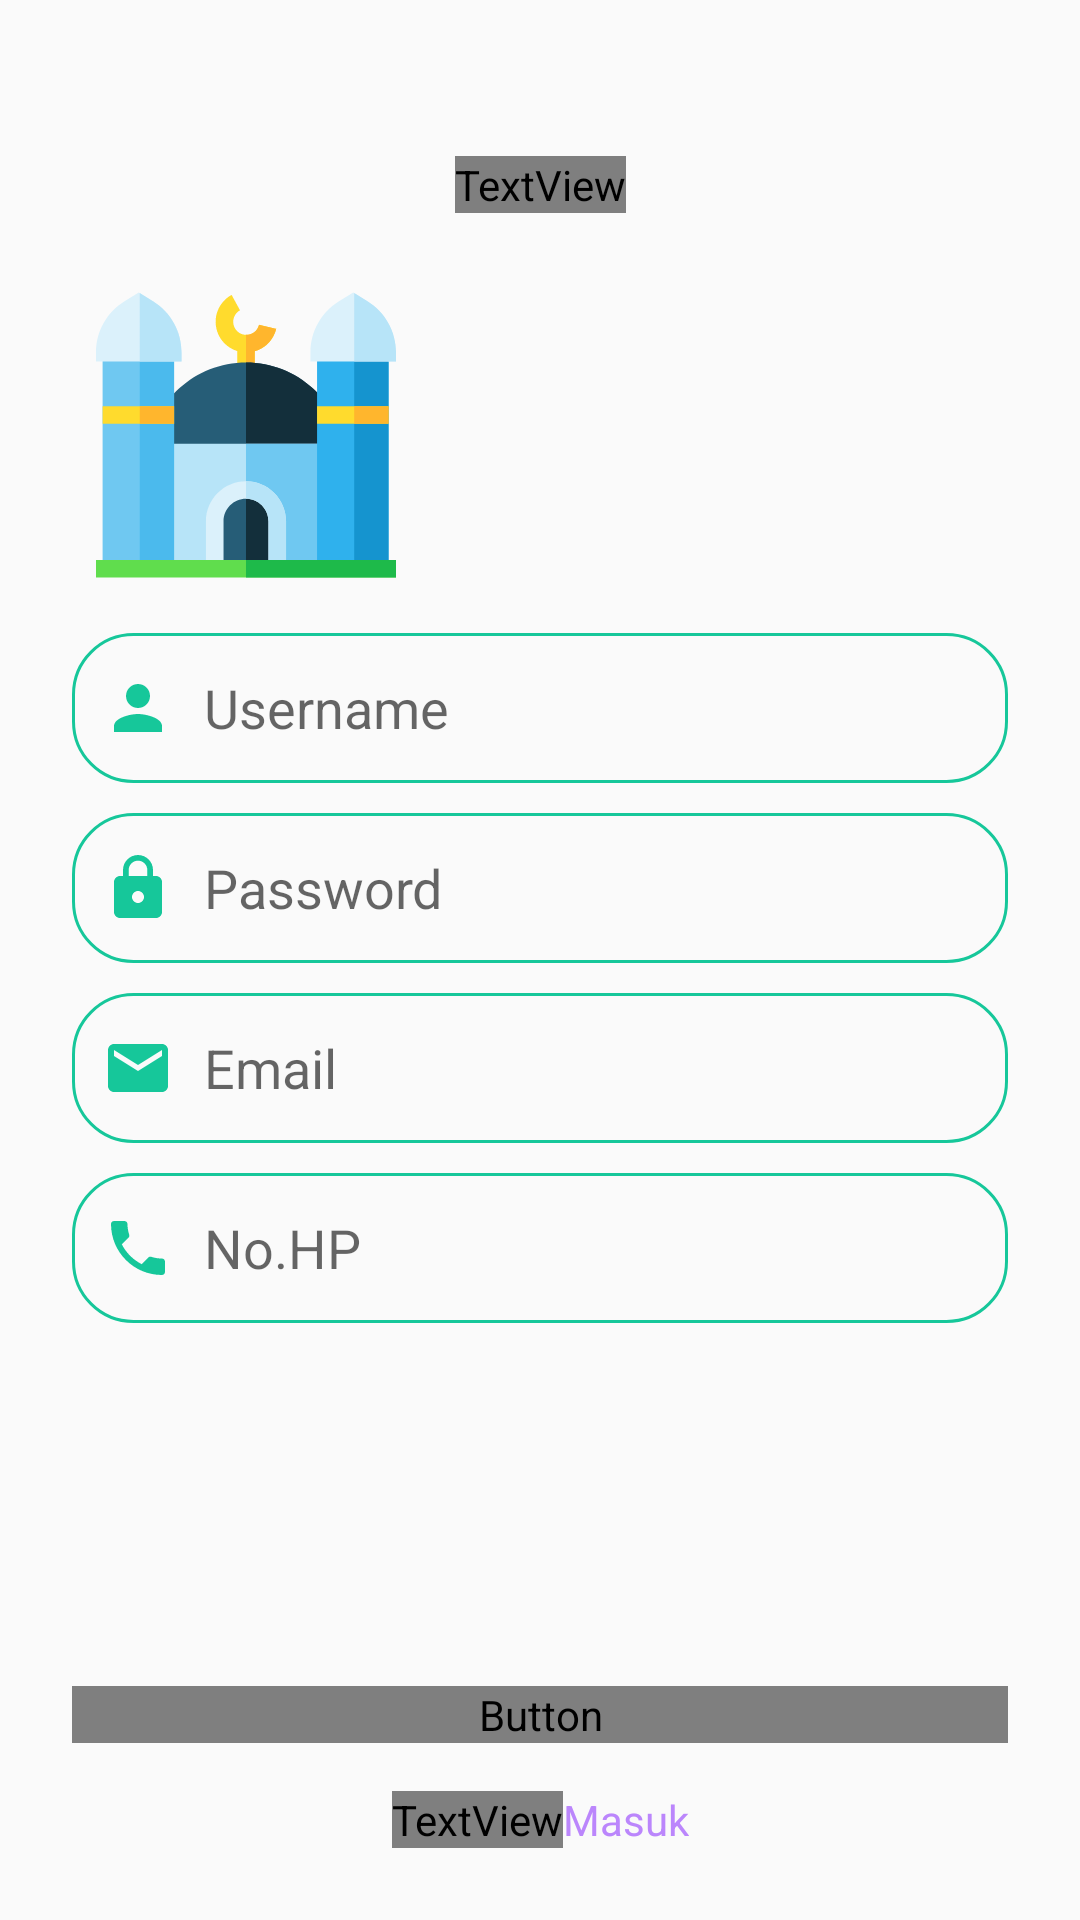

Screen size 1080w x 1920h. Icon name, then its box in pixels as (x1, y1, x2, y2):
mosque: (96, 293, 396, 578)
